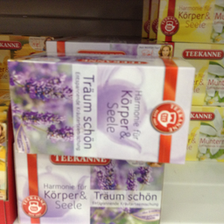tea: (7, 51, 196, 164), (14, 154, 167, 224)
